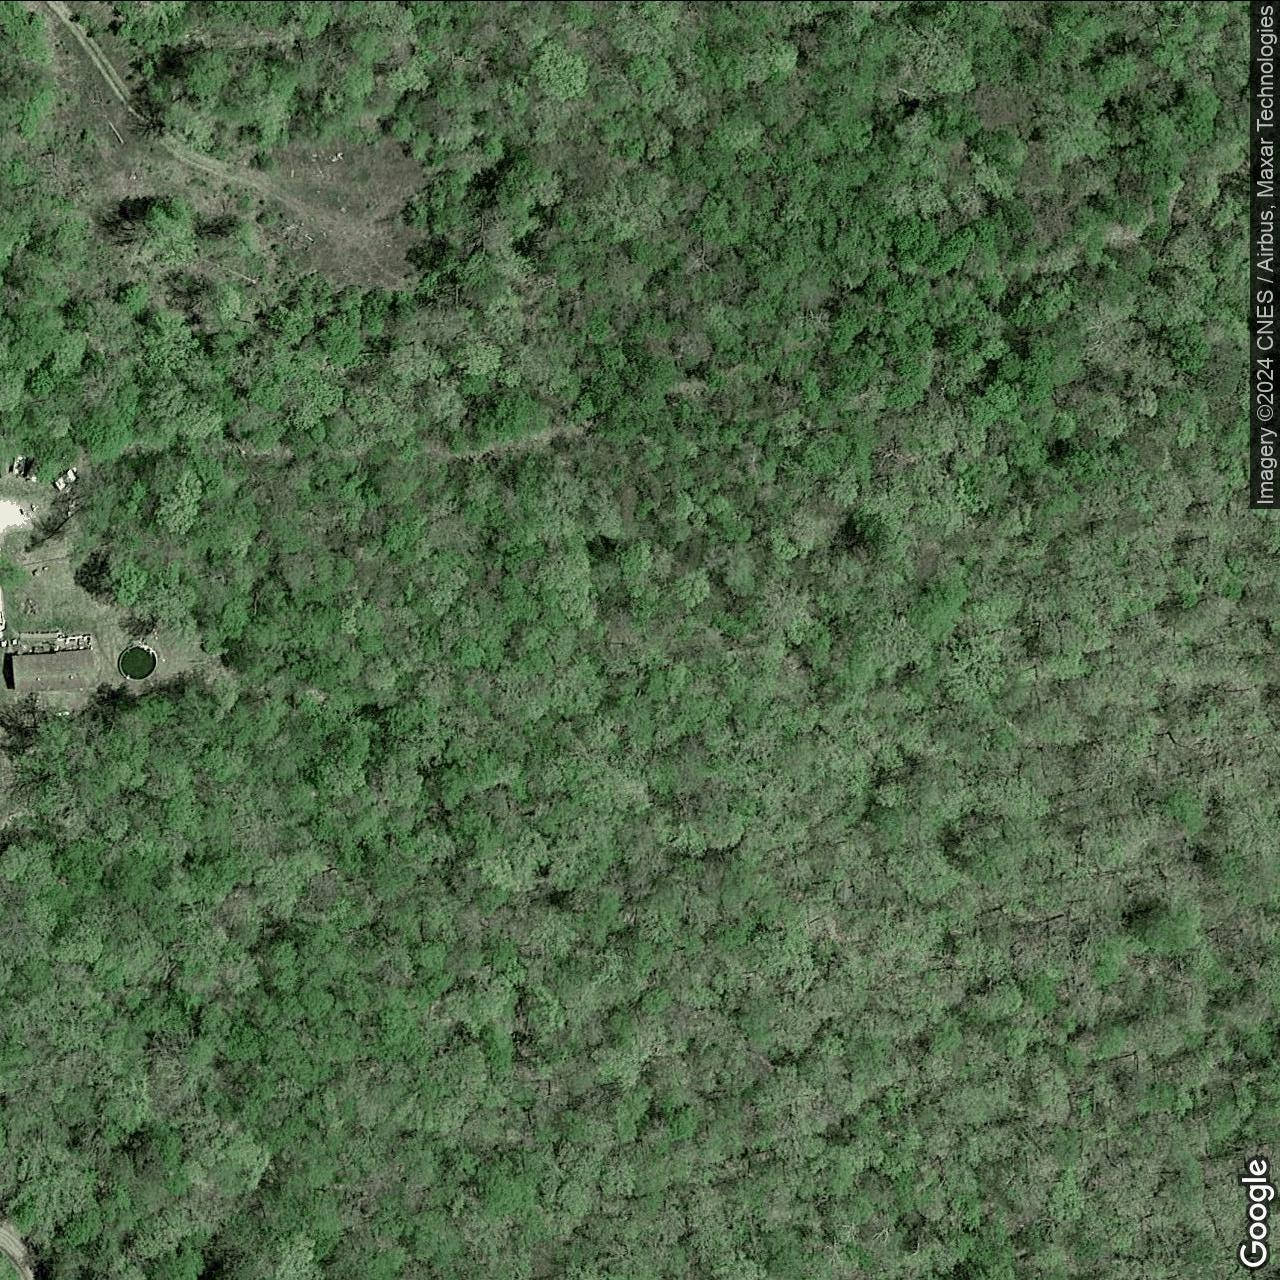House: (13, 648, 96, 690)
